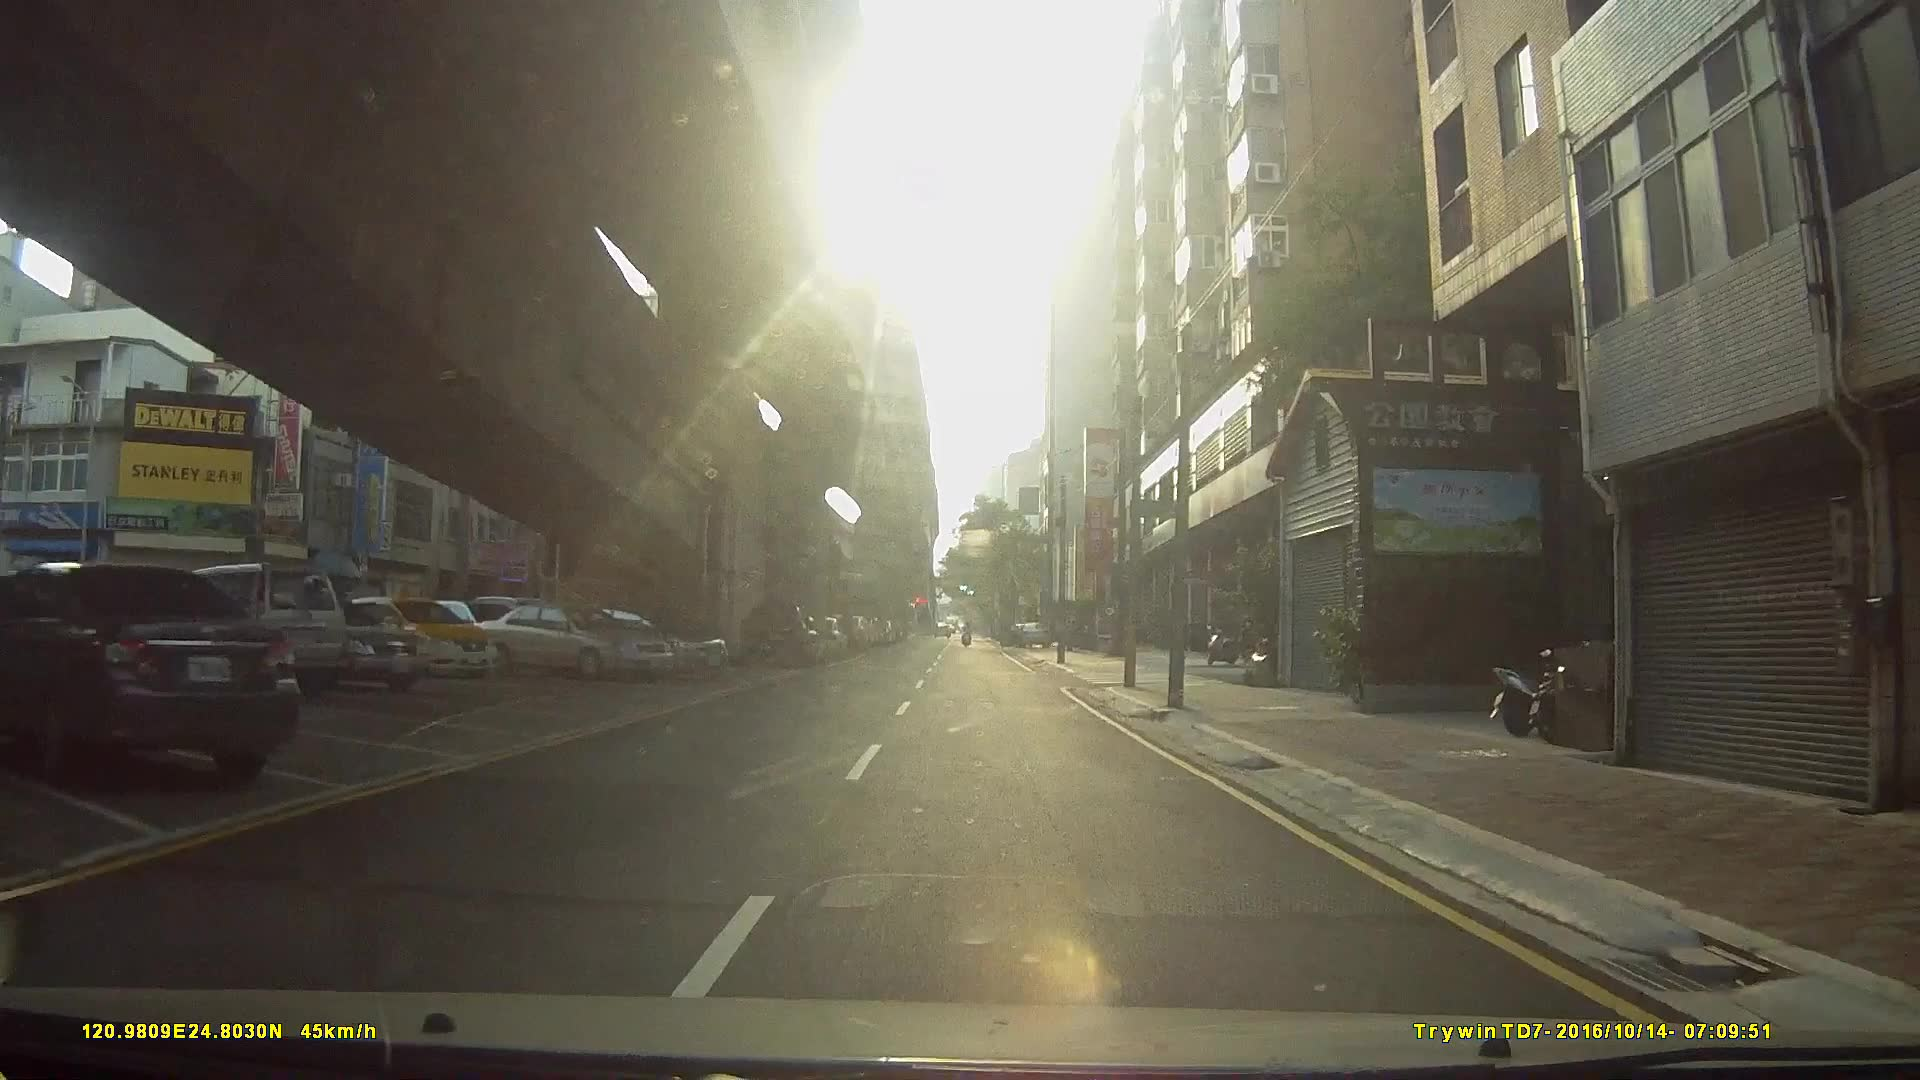vehicle: (0, 559, 302, 791), (140, 560, 345, 694), (244, 595, 435, 696), (472, 599, 675, 679), (535, 603, 729, 683), (342, 596, 501, 676), (737, 597, 818, 669)
